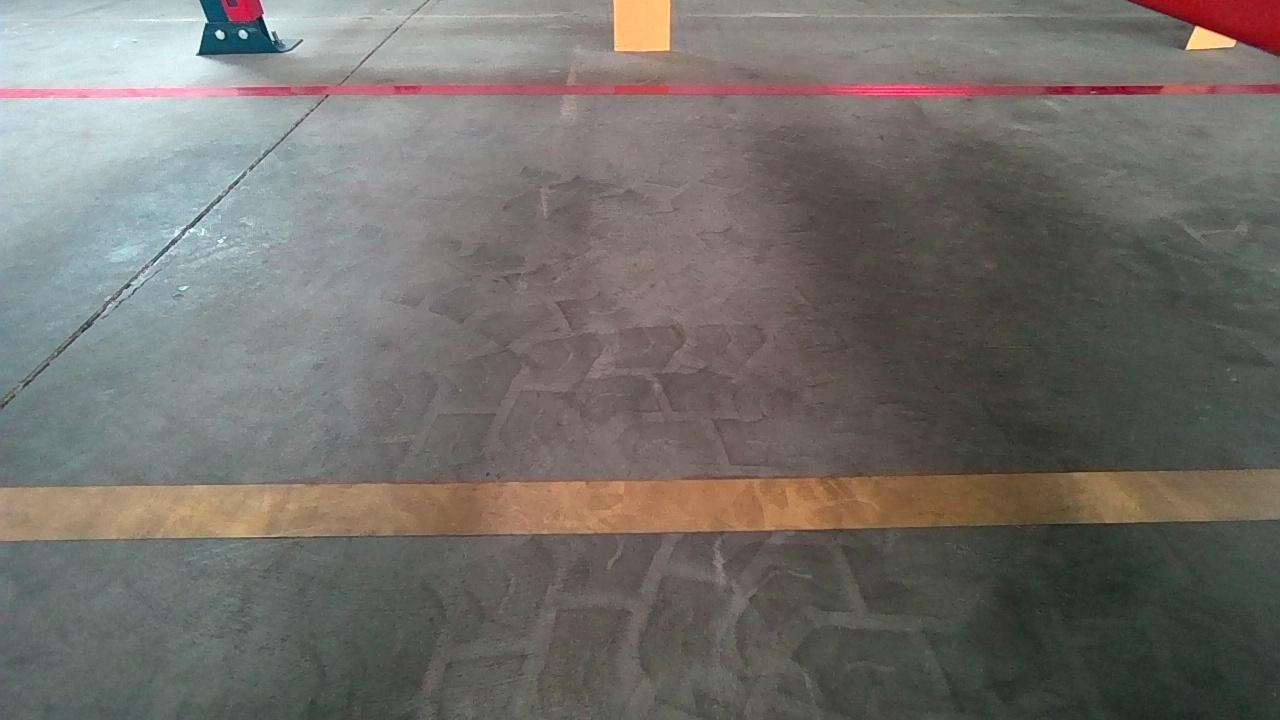h_rack: (1171, 10, 1266, 50)
orange_strip: (614, 0, 672, 51)
red_line: (0, 80, 1280, 98)
yellow_line: (2, 468, 1280, 541)
